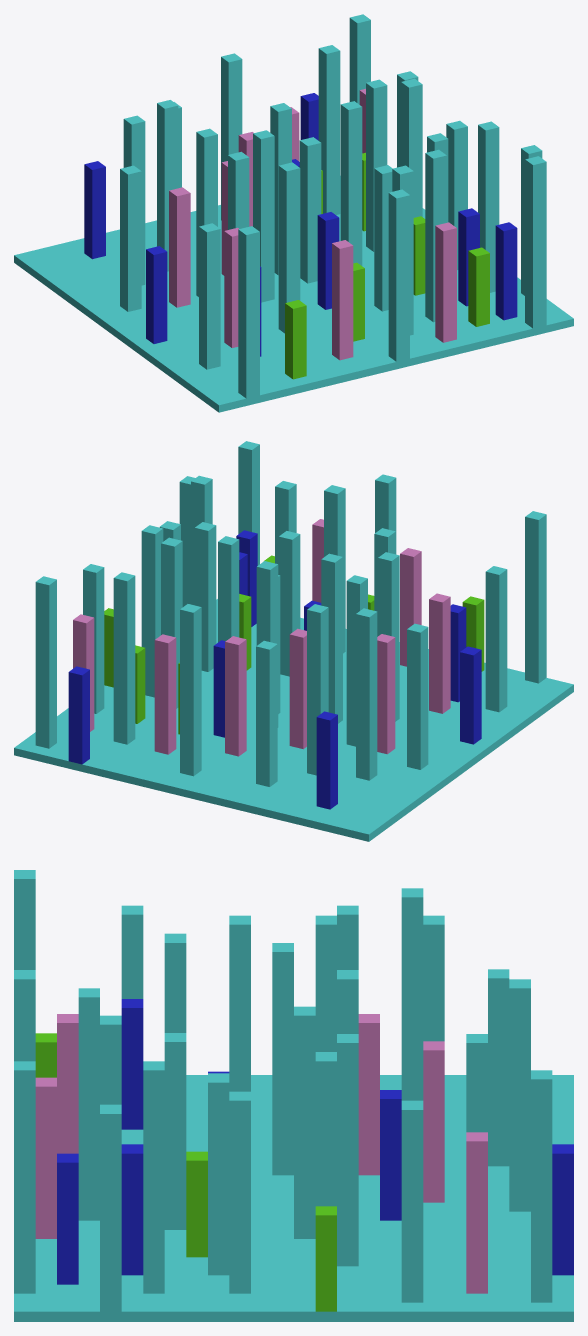
File: env.fbx
The picture shows the model from 3 angles, top to bottom: view 1: azimuth 30°, elevation 25°; view 2: azimuth 150°, elevation 25°; view 3: azimuth 270°, elevation 25°; orthographic projection. The views are drawn at different scales.
Parts seen in each view (by area): view 1: Cube; view 2: Cube; view 3: Cube.
Part boxes in pixels (x1,y1,x2,y2): Cube: (14, 14, 573, 412); Cube: (14, 441, 573, 841); Cube: (14, 870, 573, 1321).
Bounding box in the file's own units: 10000 × 4600 × 10000.
